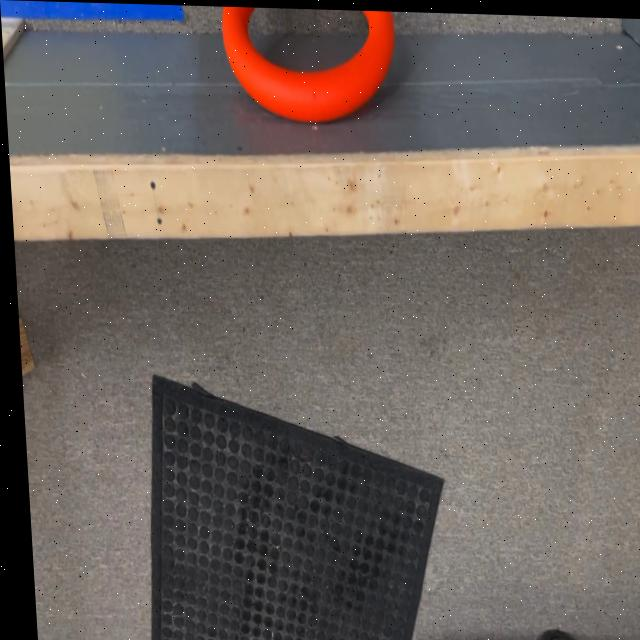note: (221, 5, 405, 121)
